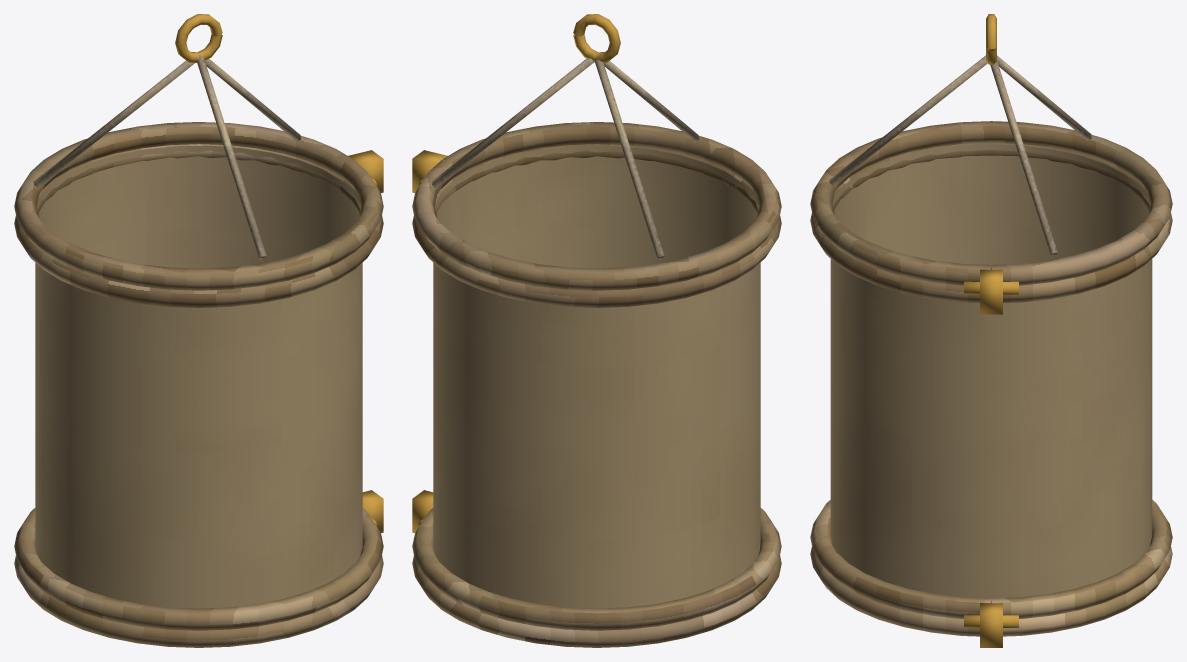
Rendered from lantern_hoop.glb.
3 views of the same model, side by side, from view 1: azimuth 30°, elevation 25°; view 2: azimuth 150°, elevation 25°; view 3: azimuth 270°, elevation 25° (orthographic).
Visible parts, largest first — view 1: prop_lantern_hoop_paper, prop_lantern_hoop_wood, prop_lantern_hoop_felt, prop_lantern_hoop_brass; view 2: prop_lantern_hoop_paper, prop_lantern_hoop_wood, prop_lantern_hoop_felt, prop_lantern_hoop_brass; view 3: prop_lantern_hoop_paper, prop_lantern_hoop_wood, prop_lantern_hoop_felt, prop_lantern_hoop_brass.
Boxes of the visible parts, x1,y1,x2,y2 form: prop_lantern_hoop_paper: (35, 145, 362, 608); prop_lantern_hoop_wood: (14, 122, 383, 647); prop_lantern_hoop_felt: (33, 55, 301, 259); prop_lantern_hoop_brass: (175, 14, 383, 532); prop_lantern_hoop_paper: (433, 145, 760, 608); prop_lantern_hoop_wood: (412, 122, 781, 647); prop_lantern_hoop_felt: (431, 55, 699, 259); prop_lantern_hoop_brass: (412, 14, 620, 532); prop_lantern_hoop_paper: (830, 144, 1152, 602); prop_lantern_hoop_wood: (810, 121, 1172, 636); prop_lantern_hoop_felt: (829, 55, 1091, 255); prop_lantern_hoop_brass: (964, 14, 1018, 647).
Bounding box in the file's own units: 0.1668 × 0.2631 × 0.1576.
4 materials, 3 textured.
